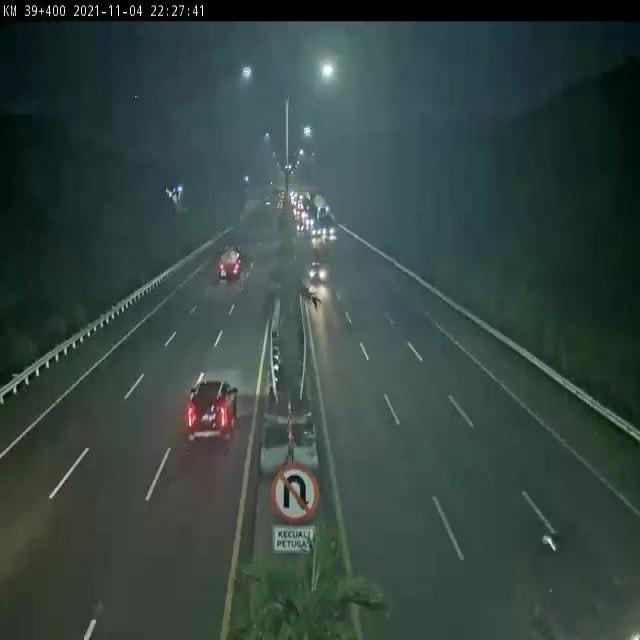car: (189, 378, 239, 446), (307, 258, 329, 286)
truck-s-: (217, 243, 243, 280)
